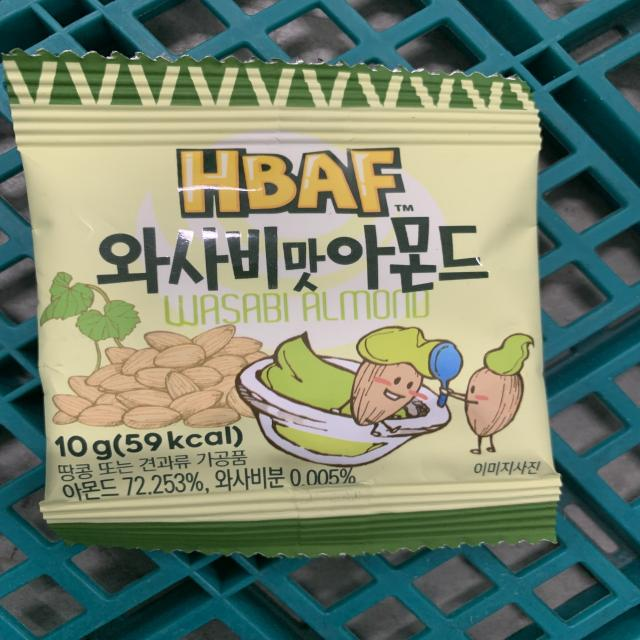object_name: (4, 53, 566, 540)
